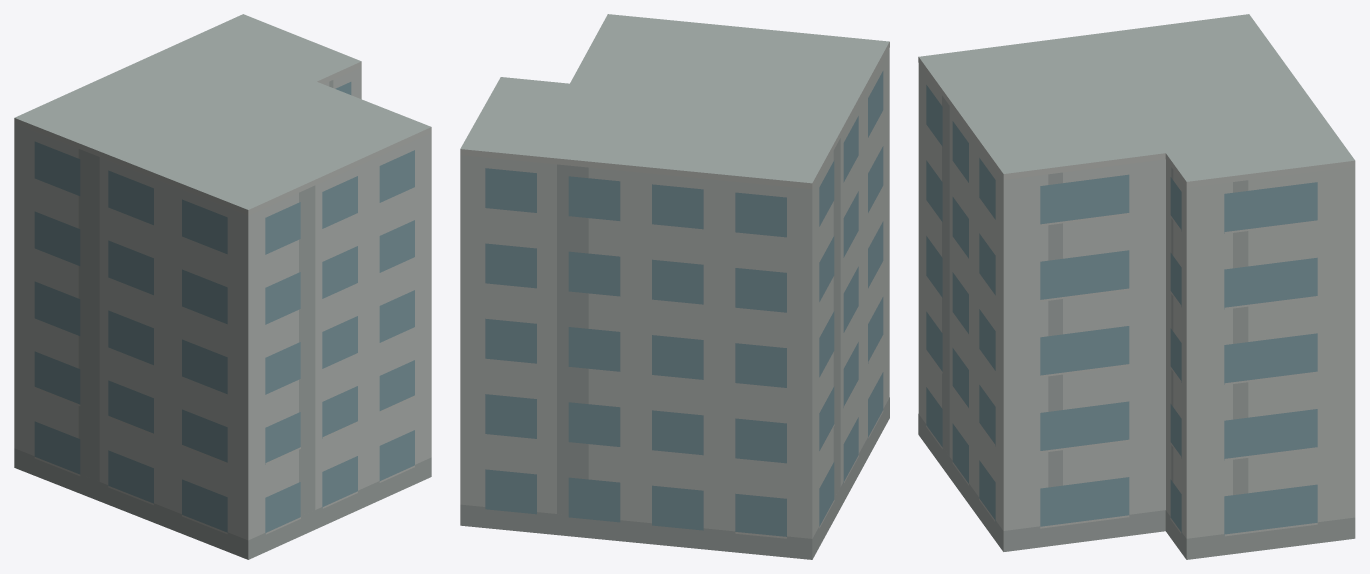
Rendered from survey-upis-32767195.glb.
3 views of the same model, side by side, from view 1: azimuth 30°, elevation 25°; view 2: azimuth 150°, elevation 25°; view 3: azimuth 270°, elevation 25° (orthographic). The views are drawn at different scales.
Visible parts, largest first — view 1: survey-upis-32767195.tmp; view 2: survey-upis-32767195.tmp; view 3: survey-upis-32767195.tmp.
Part boxes in pixels (x1,y1,x2,y2): survey-upis-32767195.tmp: (14, 14, 431, 559); survey-upis-32767195.tmp: (460, 14, 889, 559); survey-upis-32767195.tmp: (918, 14, 1355, 559).
Bounding box in the file's own units: 14.53 × 15.25 × 15.98.
